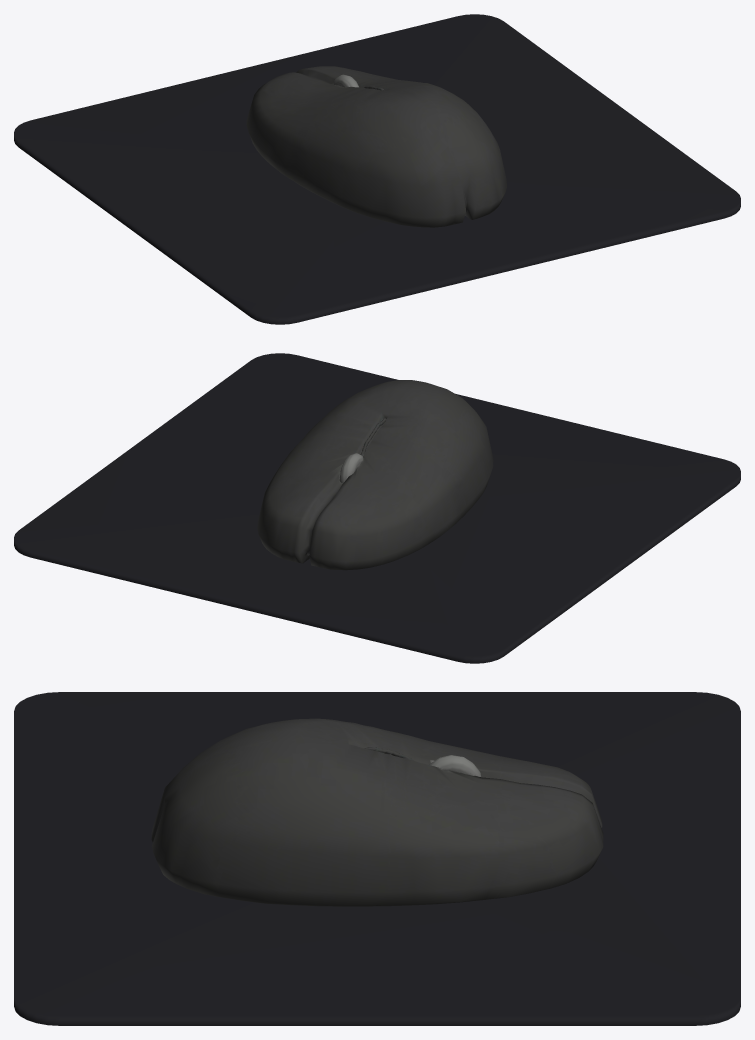
File: mouse_tripo.glb
The picture shows the model from 3 angles, top to bottom: view 1: azimuth 30°, elevation 25°; view 2: azimuth 150°, elevation 25°; view 3: azimuth 270°, elevation 25°; orthographic projection. The views are drawn at different scales.
Parts seen in each view (by area): view 1: mousepad, tripo_node_926e444c-4a59-4b34-b318-db6d3f72f95a; view 2: mousepad, tripo_node_926e444c-4a59-4b34-b318-db6d3f72f95a; view 3: mousepad, tripo_node_926e444c-4a59-4b34-b318-db6d3f72f95a.
Part boxes in pixels (left/top/right/bottom): mousepad: left=14, top=14, right=740, bottom=324; tripo_node_926e444c-4a59-4b34-b318-db6d3f72f95a: left=246, top=66, right=506, bottom=227; mousepad: left=14, top=353, right=740, bottom=663; tripo_node_926e444c-4a59-4b34-b318-db6d3f72f95a: left=257, top=380, right=493, bottom=570; mousepad: left=14, top=692, right=740, bottom=1025; tripo_node_926e444c-4a59-4b34-b318-db6d3f72f95a: left=151, top=718, right=603, bottom=906.
Bounding box in the file's own units: 0.2 × 0.039 × 0.19.
Materials: 2 (1 with a texture image).
